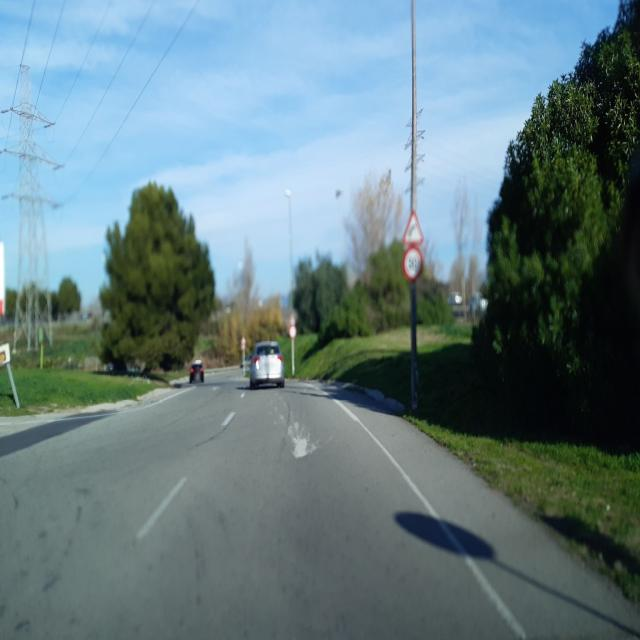car: (249, 341, 285, 389), (189, 358, 205, 384)
